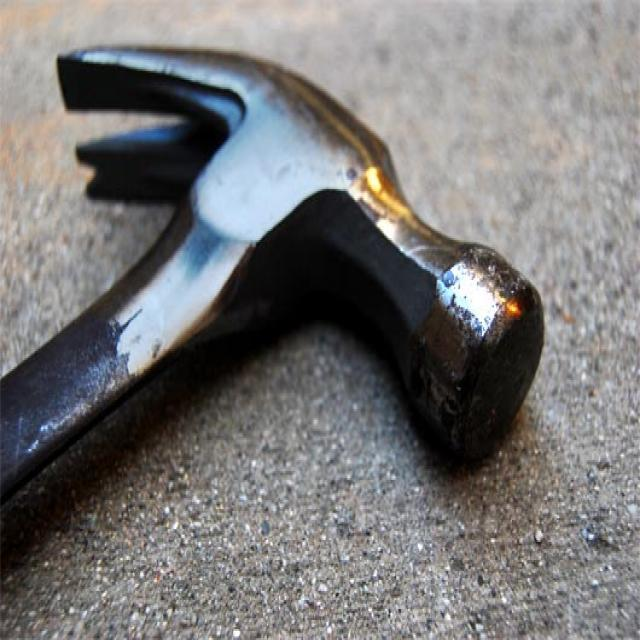hammer: (0, 22, 560, 578)
